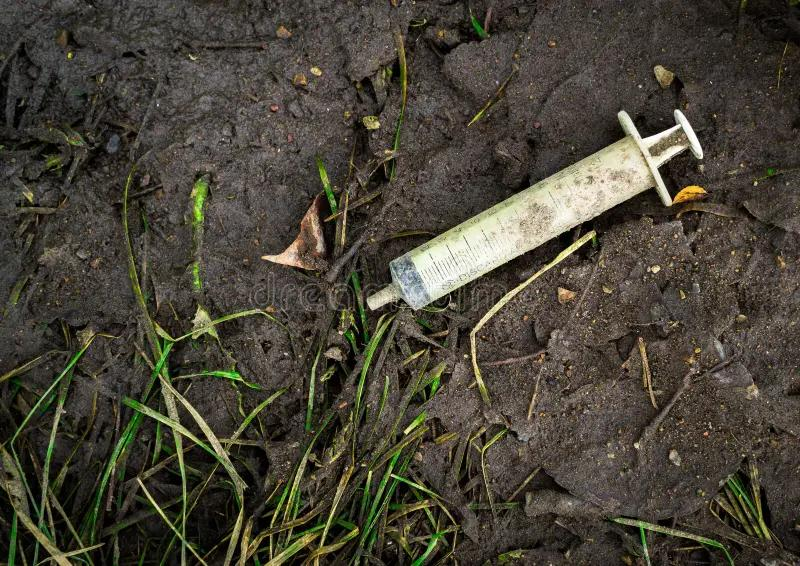Syringe: (367, 110, 702, 309)
